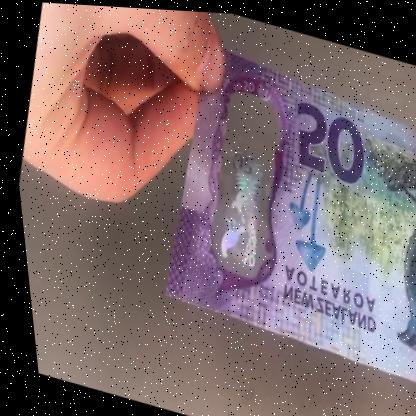50B: (197, 91, 291, 271)
